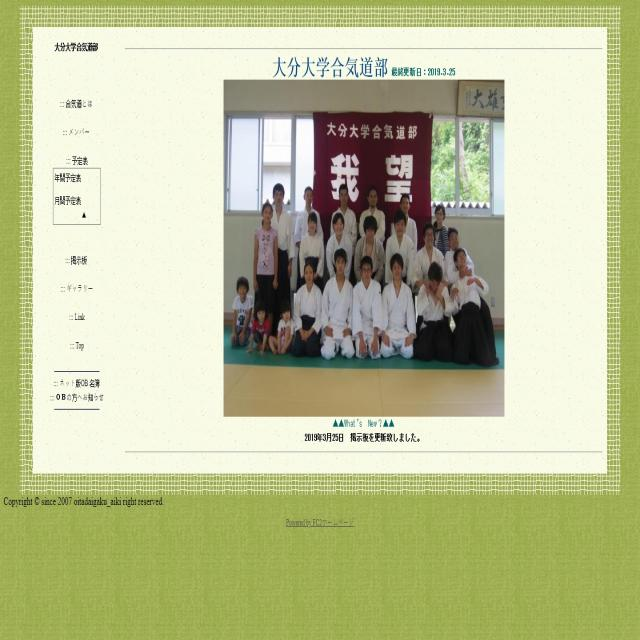heading: (269, 58, 456, 78), (54, 36, 102, 54)
image: (0, 5, 639, 640), (223, 78, 503, 416)
text: (52, 95, 106, 414), (302, 418, 426, 448), (1, 490, 166, 510)
